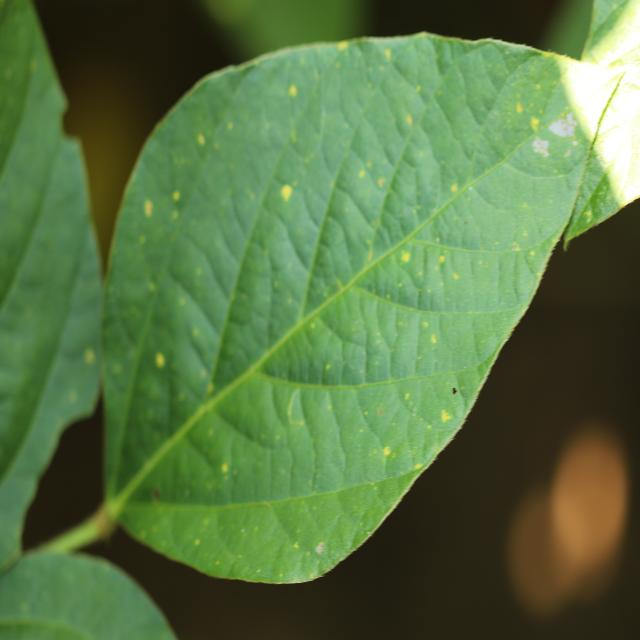Soybean: (99, 32, 640, 588)
downey_mildew: (356, 286, 640, 639), (106, 66, 319, 500), (128, 33, 597, 151), (364, 47, 577, 278), (282, 244, 523, 414), (162, 351, 412, 503), (1, 163, 97, 527), (175, 111, 290, 337), (98, 372, 246, 528), (33, 5, 206, 129), (63, 57, 157, 273), (253, 74, 352, 275), (322, 74, 419, 260), (1, 549, 179, 638), (301, 41, 444, 150), (96, 517, 226, 634), (16, 394, 109, 555), (464, 52, 578, 182), (253, 279, 384, 391), (247, 127, 346, 272), (385, 246, 542, 335), (417, 168, 559, 261), (425, 299, 526, 429), (538, 207, 639, 323), (246, 194, 317, 359), (145, 480, 402, 525), (162, 212, 243, 352), (0, 123, 60, 304), (115, 309, 174, 491), (569, 72, 630, 241), (274, 487, 392, 572), (219, 36, 477, 73), (200, 2, 367, 59), (170, 502, 287, 576), (201, 368, 297, 455), (99, 327, 140, 515), (503, 226, 573, 336), (264, 356, 476, 391), (197, 167, 260, 281), (324, 380, 393, 483), (316, 181, 382, 288), (430, 52, 494, 154), (553, 458, 616, 561), (57, 239, 103, 368), (0, 448, 46, 576), (390, 35, 554, 68), (351, 246, 426, 318), (377, 235, 540, 267), (333, 146, 390, 237), (295, 385, 344, 489), (172, 56, 280, 101), (34, 506, 114, 561), (556, 153, 596, 252), (583, 0, 640, 69), (215, 554, 342, 584), (539, 1, 600, 61), (486, 147, 583, 183), (523, 108, 579, 169), (388, 366, 448, 422), (388, 299, 424, 384), (265, 340, 330, 386), (588, 75, 625, 149), (262, 496, 304, 556), (0, 615, 98, 639), (434, 387, 466, 447), (622, 97, 640, 189), (380, 31, 455, 52), (517, 239, 550, 286), (64, 126, 98, 168), (0, 530, 26, 581), (62, 99, 87, 139), (611, 74, 640, 106), (461, 36, 519, 51), (418, 245, 431, 307), (287, 388, 306, 425), (196, 365, 210, 386), (70, 388, 83, 408), (448, 382, 462, 398), (562, 232, 573, 252), (280, 184, 292, 201), (84, 348, 95, 364), (151, 486, 161, 502), (155, 352, 165, 368), (144, 200, 153, 217), (530, 117, 540, 131), (288, 84, 297, 97), (112, 363, 122, 374), (401, 251, 410, 263), (384, 48, 392, 61), (338, 41, 348, 51), (172, 190, 180, 202), (197, 134, 205, 146), (221, 462, 229, 474), (30, 58, 37, 71), (206, 383, 214, 394), (20, 602, 28, 613), (377, 177, 385, 188), (516, 102, 523, 113), (192, 328, 200, 337), (584, 210, 592, 219), (564, 149, 572, 158), (171, 210, 178, 220), (430, 334, 437, 344), (149, 283, 156, 292), (358, 169, 365, 178), (451, 183, 458, 192), (200, 369, 206, 379), (227, 121, 233, 131), (407, 114, 413, 124), (414, 463, 422, 470), (253, 500, 262, 506), (453, 272, 459, 281), (439, 255, 445, 264), (512, 241, 519, 248), (377, 408, 383, 416), (194, 538, 200, 546), (416, 84, 421, 93), (423, 321, 429, 328), (529, 250, 535, 257), (404, 393, 410, 400), (522, 231, 528, 237), (426, 424, 432, 430), (325, 364, 330, 371), (463, 219, 468, 225), (241, 528, 246, 534), (388, 474, 394, 479), (306, 550, 311, 556), (369, 481, 375, 486), (359, 428, 364, 433), (366, 531, 371, 536), (469, 186, 473, 191)
